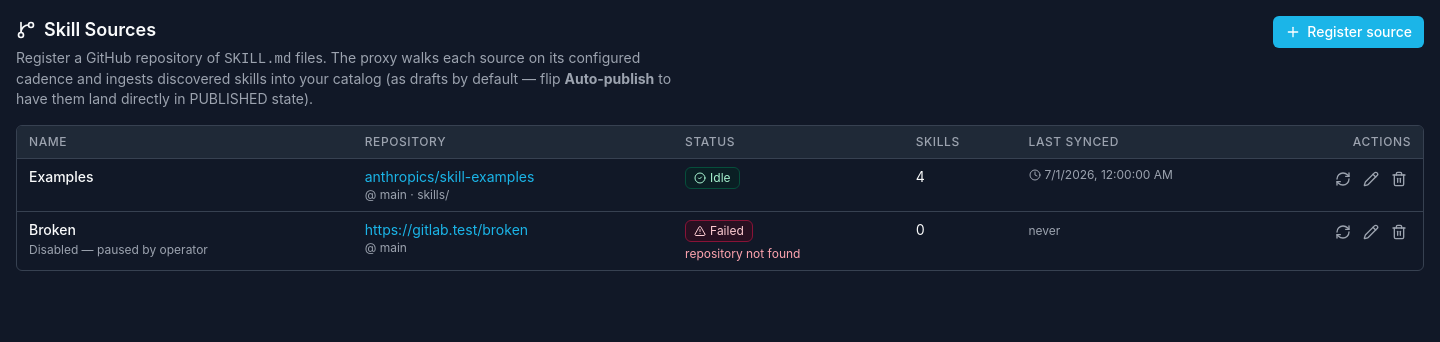
Scenario: SkillSourcesTab › delete › shows a failure
The image size is (1440, 342).
Expected: the heading "Skill Sources" is shown, [16,19,156,40]
Click the button titled "Delete" in the row of "anthropics/skill-examples".
click(1399, 179)  # box [1387,167,1411,191]
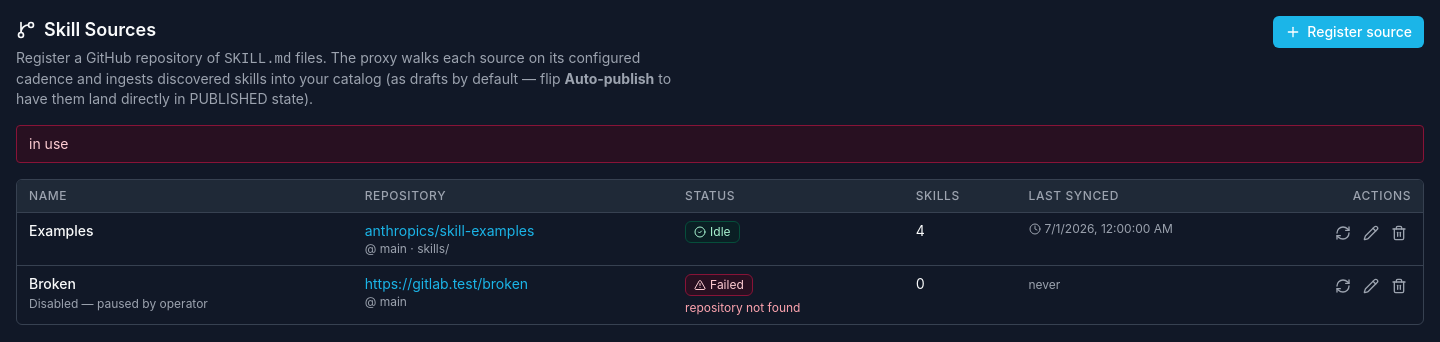
Now the text "in use" is shown, box [16,125,1424,163]
